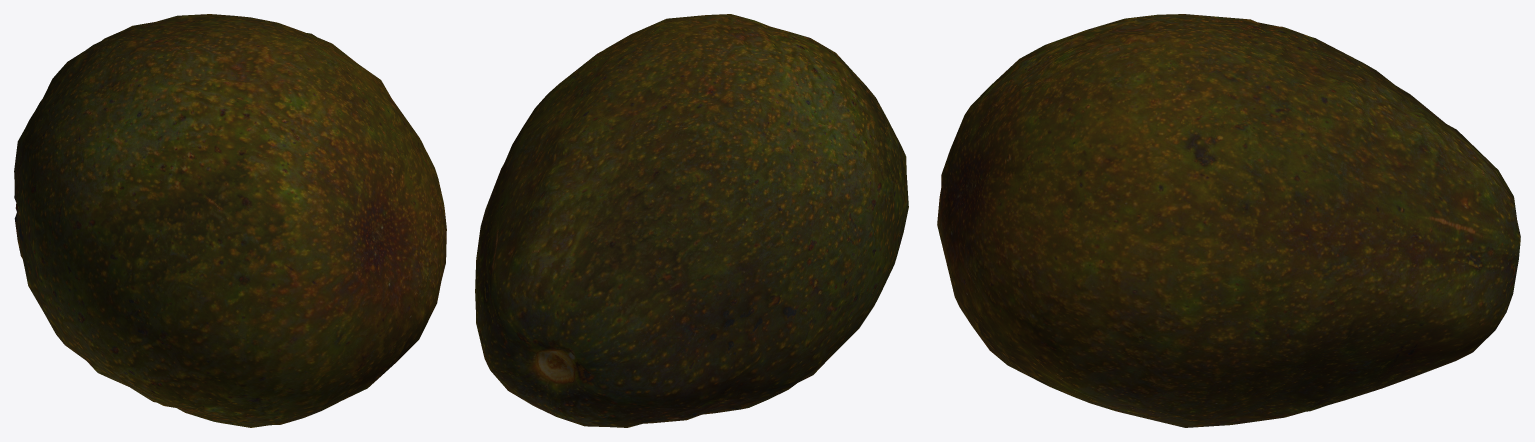
File: mexican avocado.glb
3 views of the same model, side by side, from view 1: azimuth 30°, elevation 25°; view 2: azimuth 150°, elevation 25°; view 3: azimuth 270°, elevation 25° (orthographic). The views are drawn at different scales.
Visible parts, largest first — view 1: Object_2; view 2: Object_2; view 3: Object_2.
Boxes of the visible parts, <box> form: Object_2: <box>14,14,446,427</box>; Object_2: <box>475,14,908,427</box>; Object_2: <box>937,14,1520,427</box>.
Bounding box in the file's own units: 0.0715 × 0.07 × 0.0989.
Materials: 1 (1 with a texture image).
